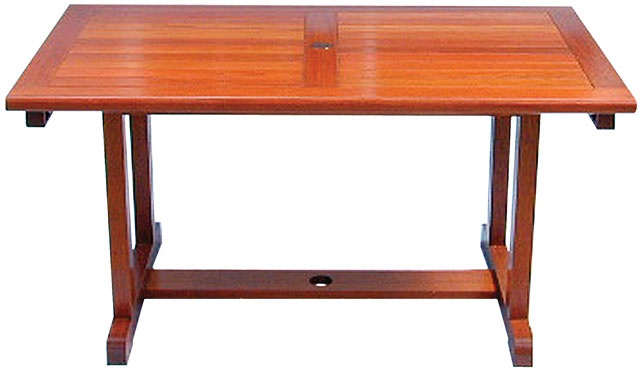obstacle: (0, 2, 639, 367)
